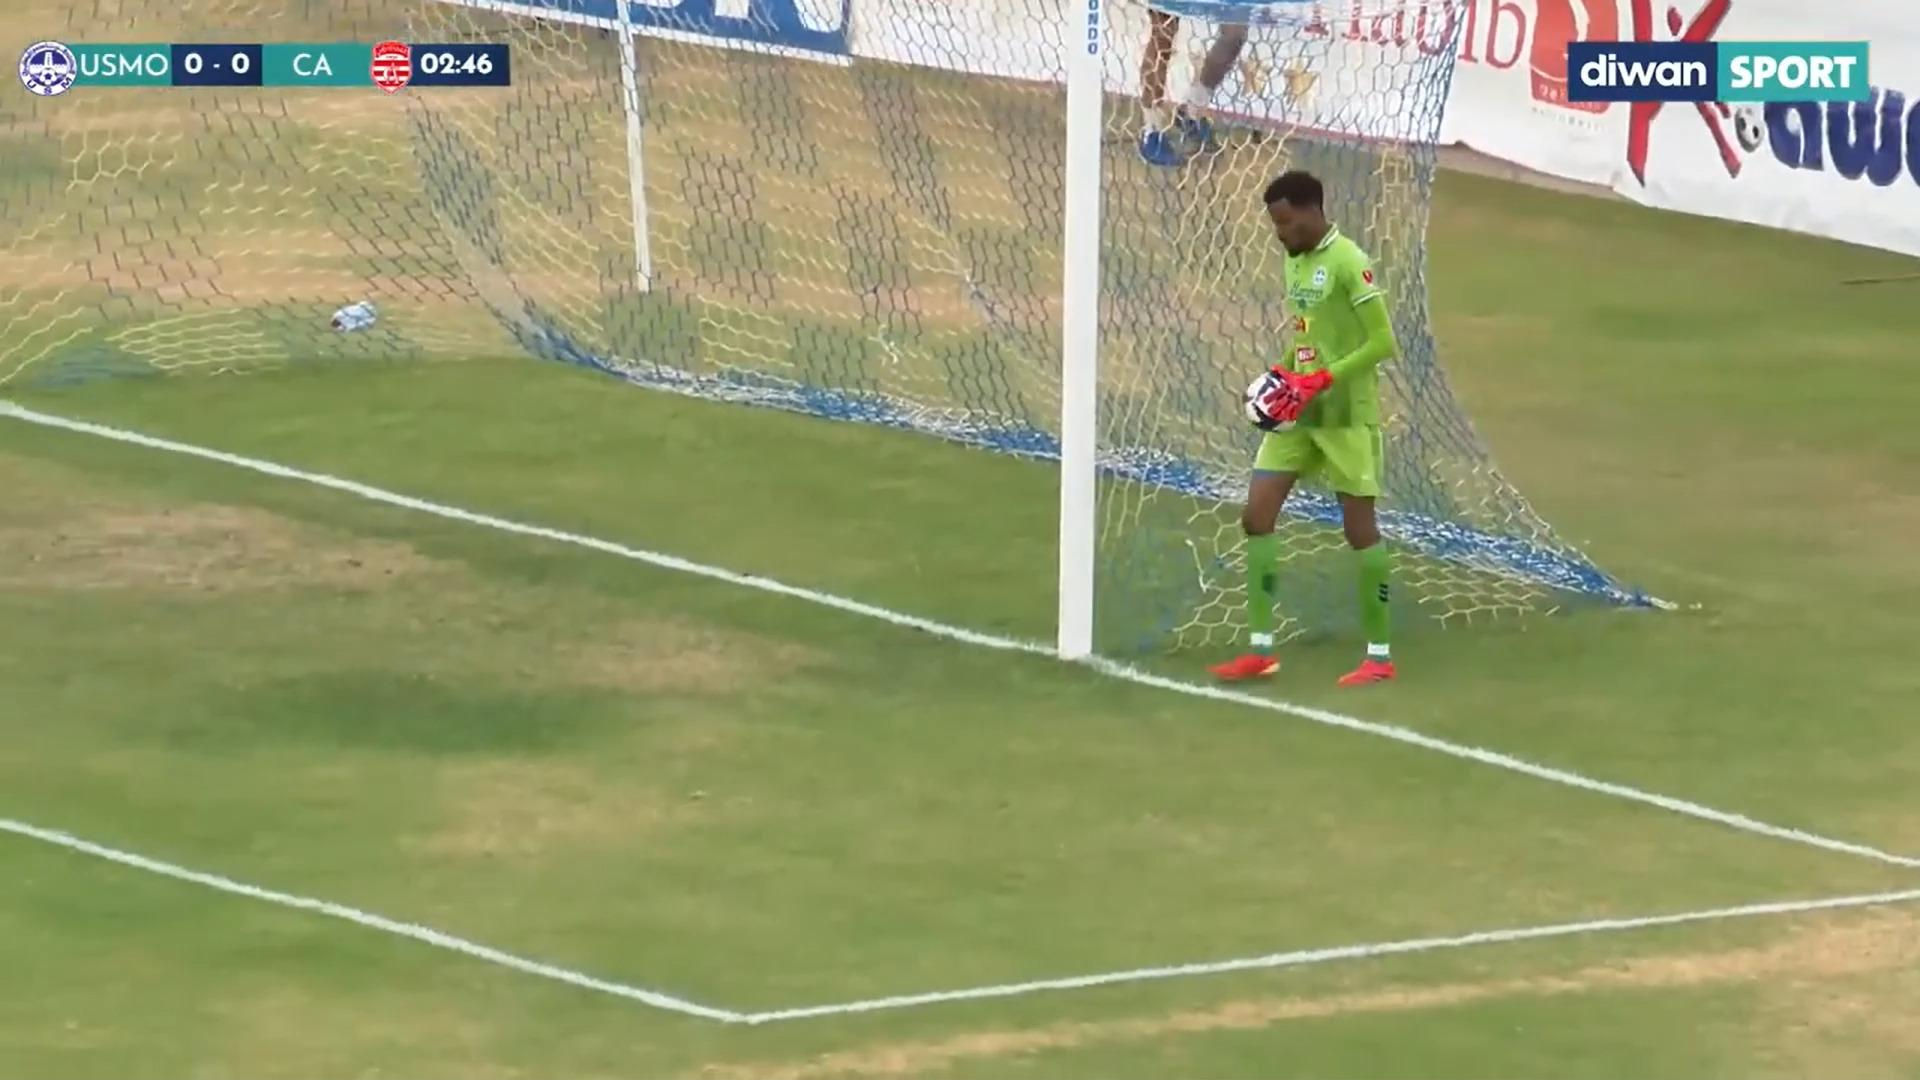ball: (1240, 364, 1302, 423)
goalkeeper: (1215, 150, 1437, 737)
